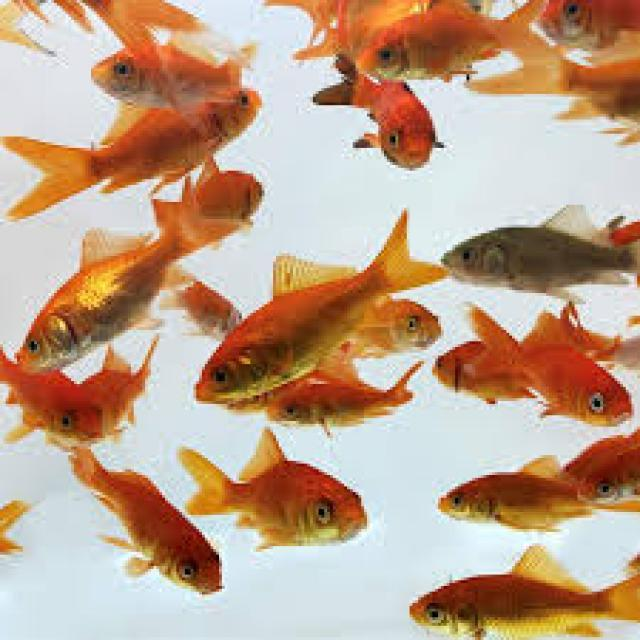goldfish: (194, 208, 454, 426), (16, 88, 264, 209), (53, 442, 244, 596), (416, 442, 614, 548), (396, 550, 626, 636), (442, 216, 607, 312)
